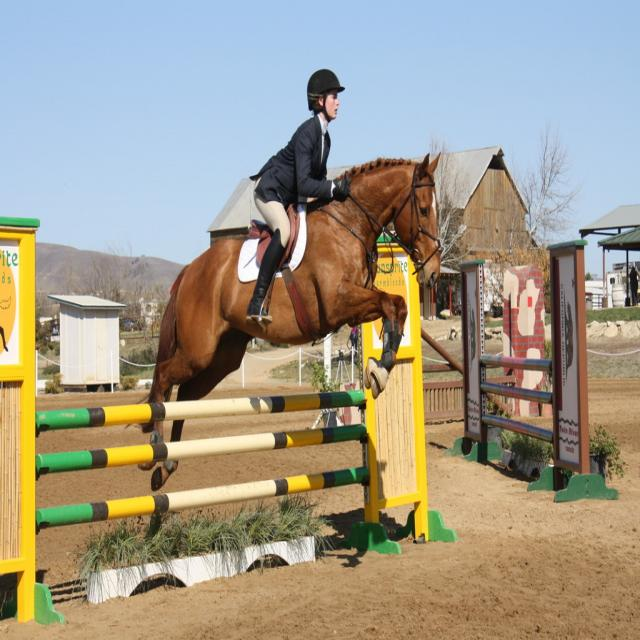Horse: (125, 151, 442, 492)
